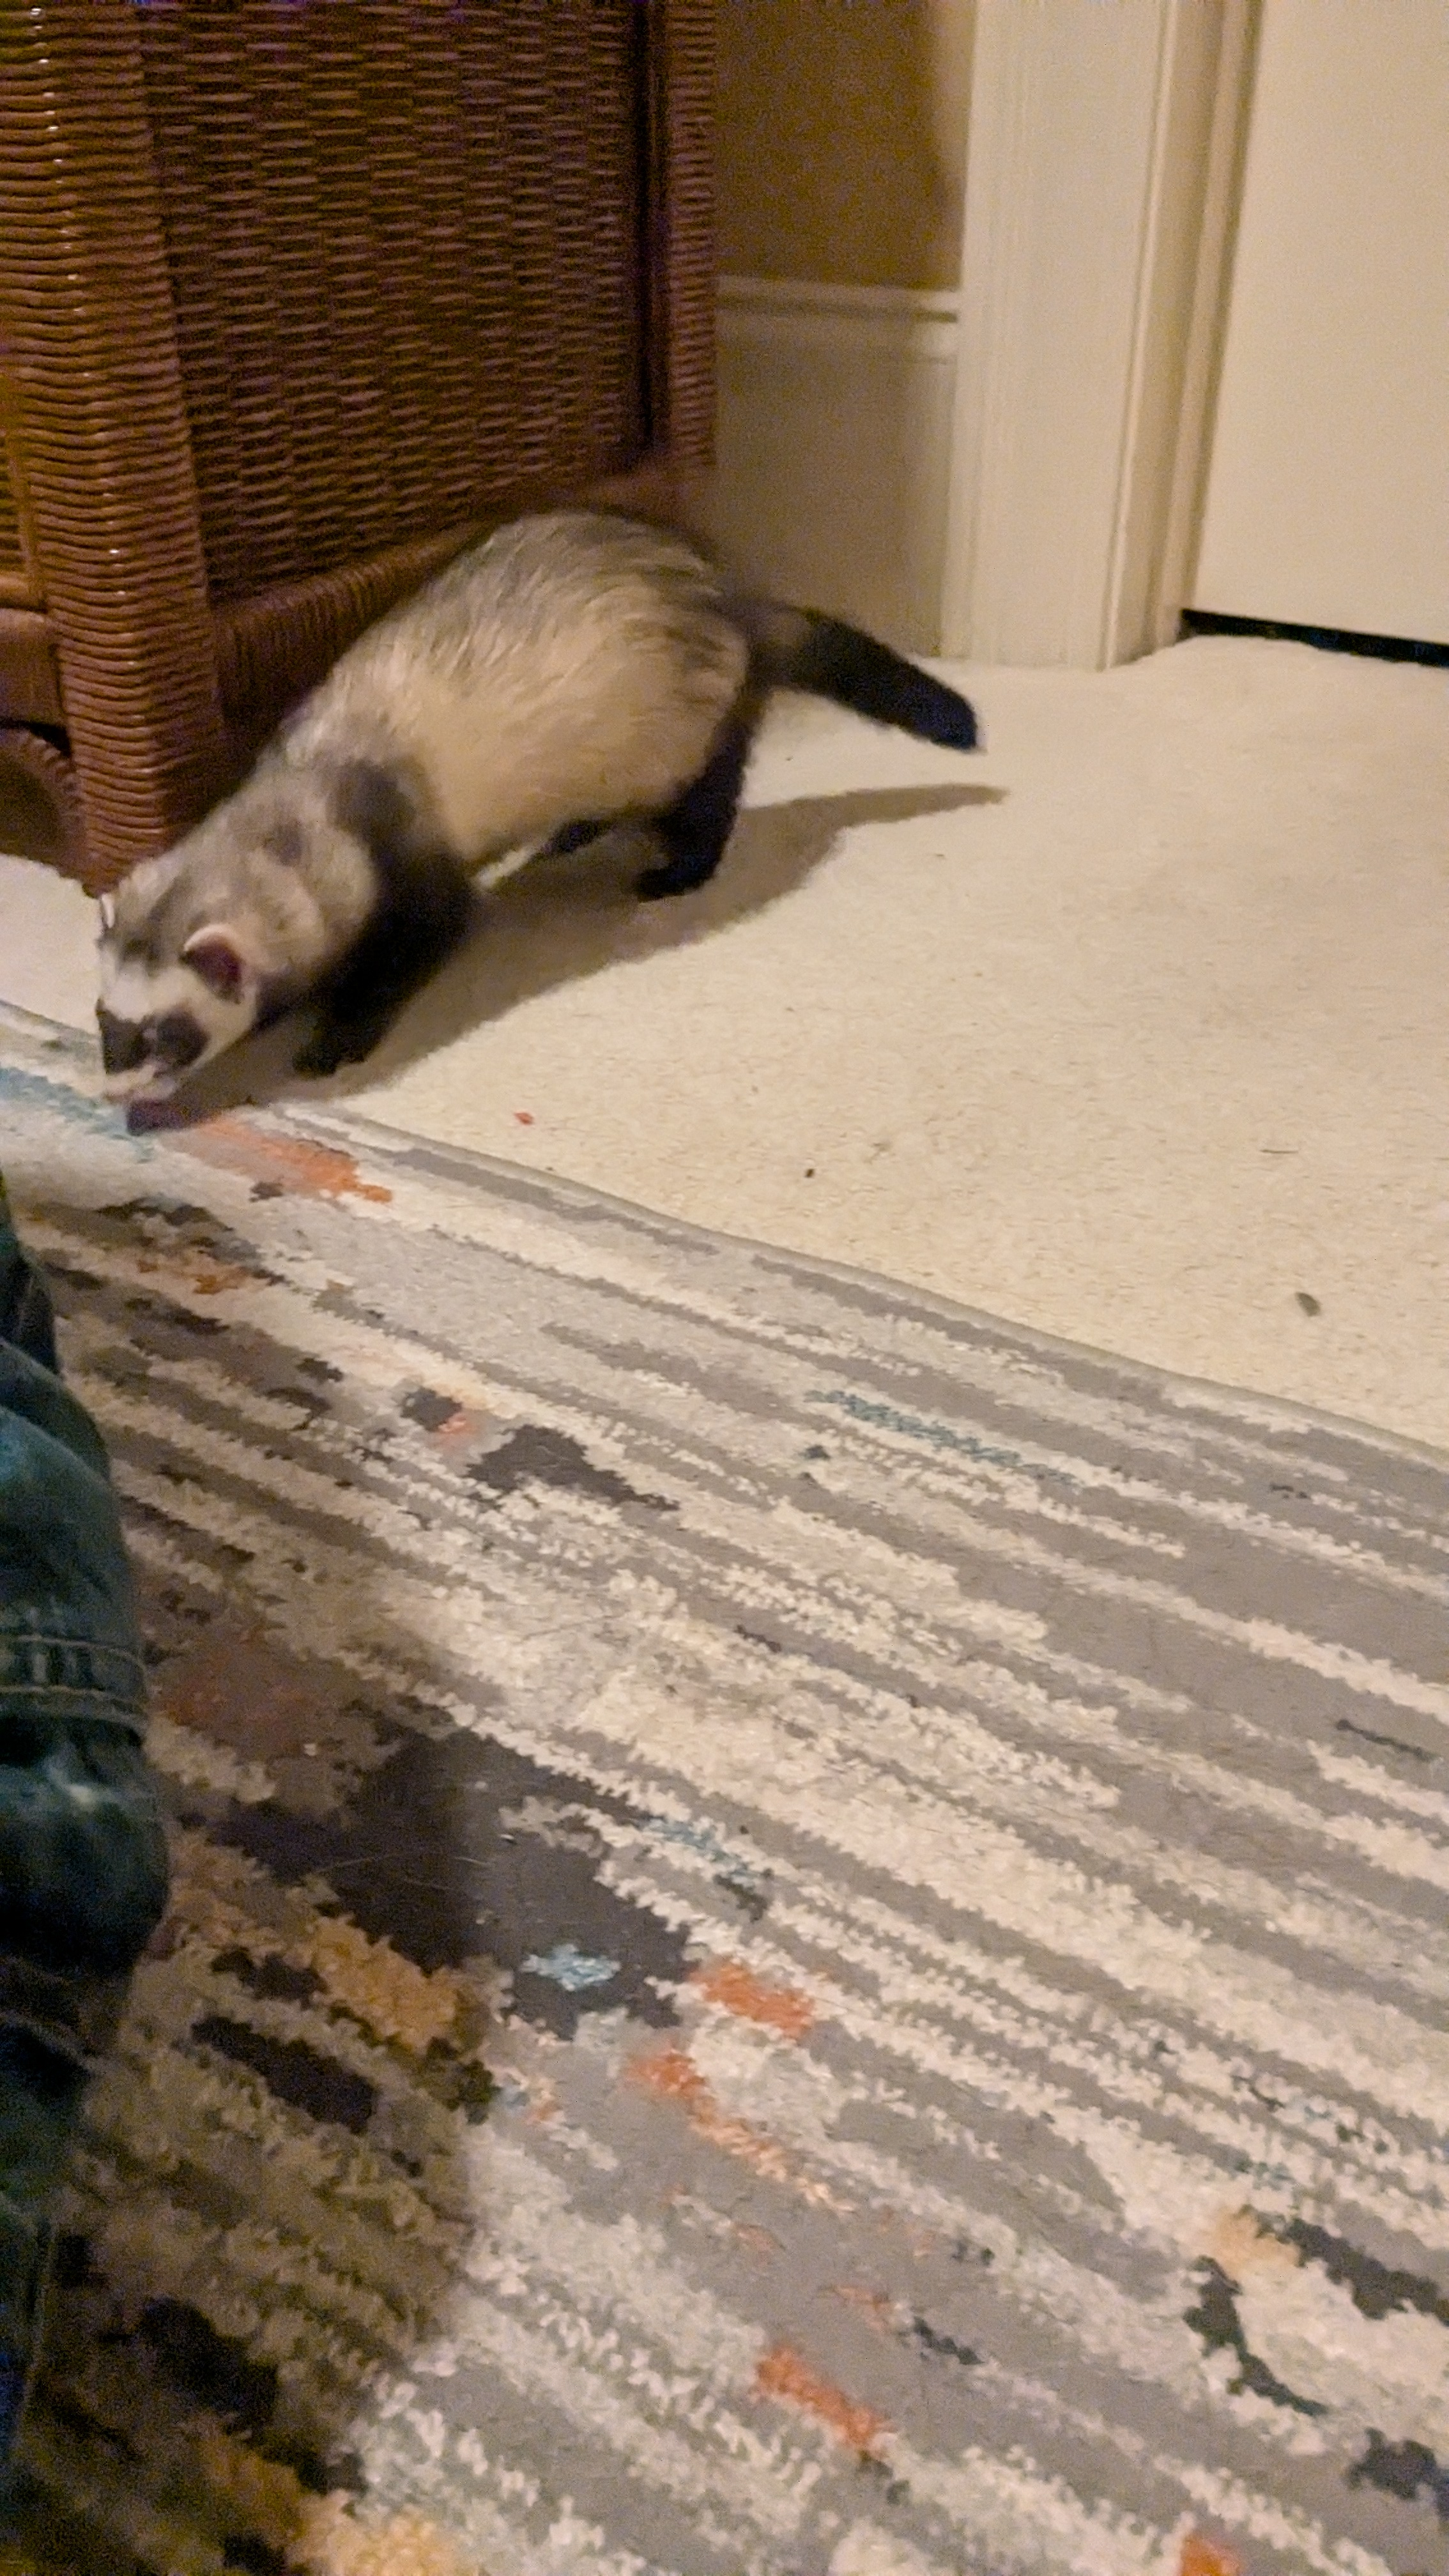Talulah: (92, 515, 982, 1104)
